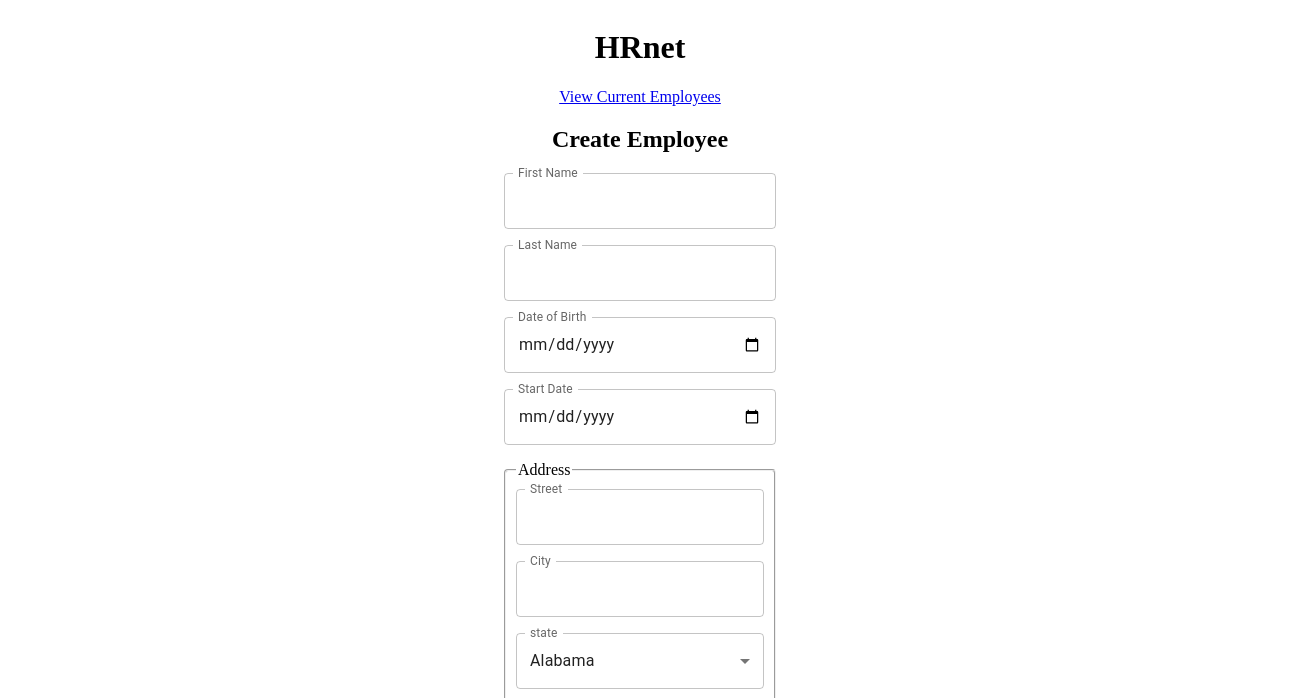
Test case: Go to Employee List page › should go to Employee List page
Click the link "View Current Employees" at {"x": 640, "y": 97}, box x1=559 y1=88 x2=721 y2=106
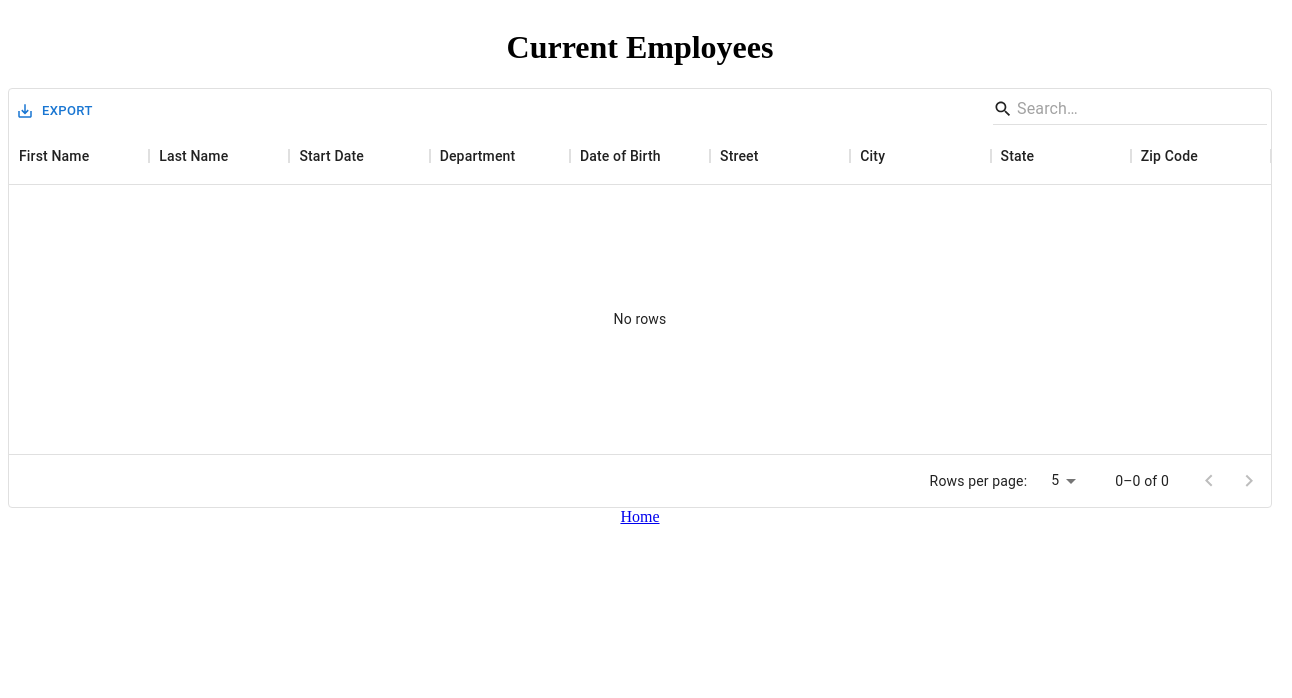
Expected: the heading "Current Employees" is shown, x1=506 y1=29 x2=773 y2=66
